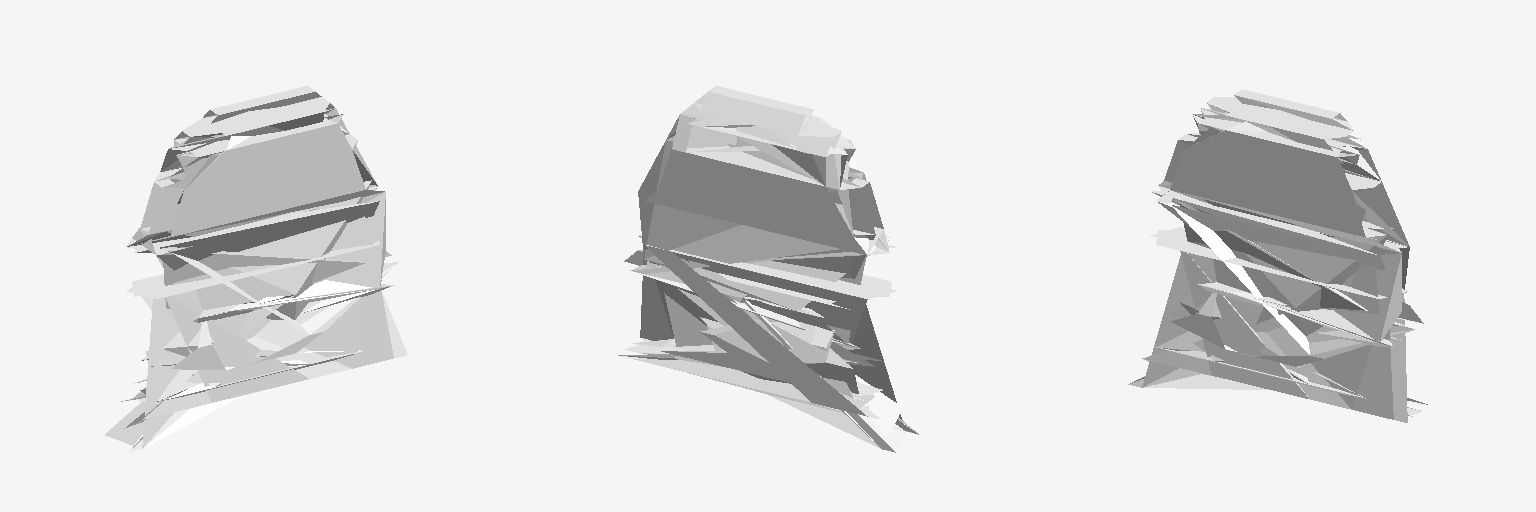
The model's file is fly_guy_0.obj.
3 views of the same model, side by side, from view 1: azimuth 30°, elevation 25°; view 2: azimuth 150°, elevation 25°; view 3: azimuth 330°, elevation 25° (orthographic).
Size of the model in its own units: 20 by 21 by 3.